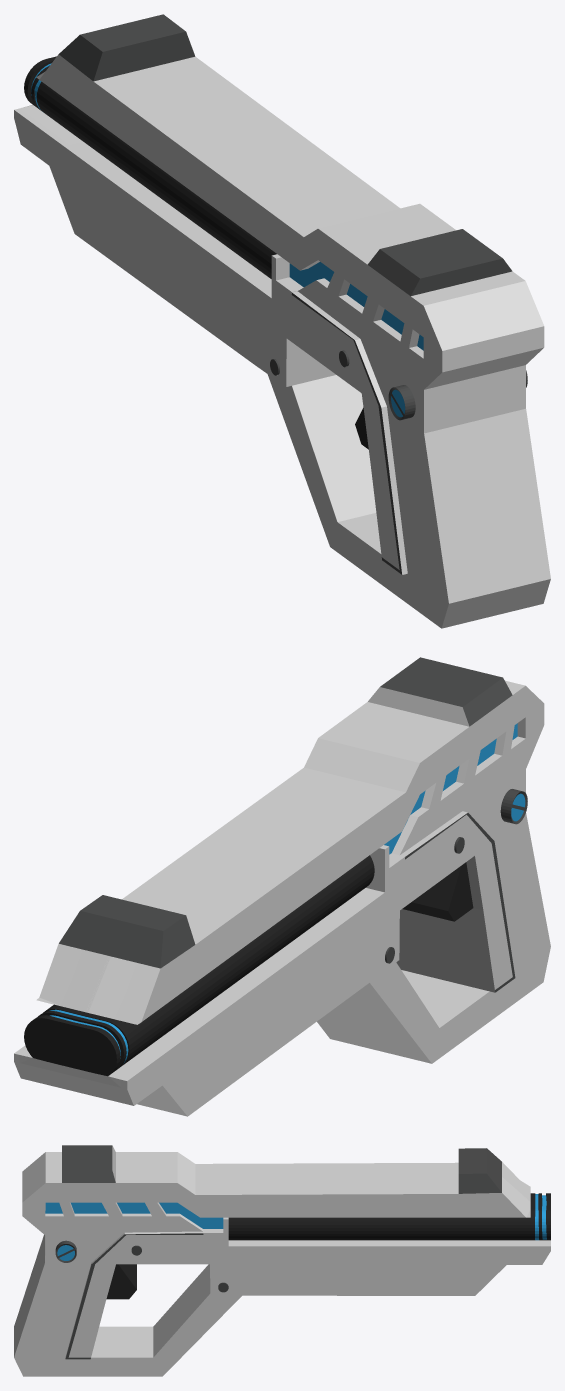
Rendered from machineGun.fbx.
The picture shows the model from 3 angles, top to bottom: view 1: azimuth 30°, elevation 25°; view 2: azimuth 150°, elevation 25°; view 3: azimuth 270°, elevation 25°; orthographic projection. The views are drawn at different scales.
Parts seen in each view (by area): view 1: Plane; view 2: Plane; view 3: Plane.
Part boxes in pixels (x1,y1,x2,y2): Plane: (14, 14, 550, 628); Plane: (14, 657, 550, 1116); Plane: (14, 1145, 550, 1376).
Bounding box in the file's own units: 15.17 × 38.52 × 92.27.
